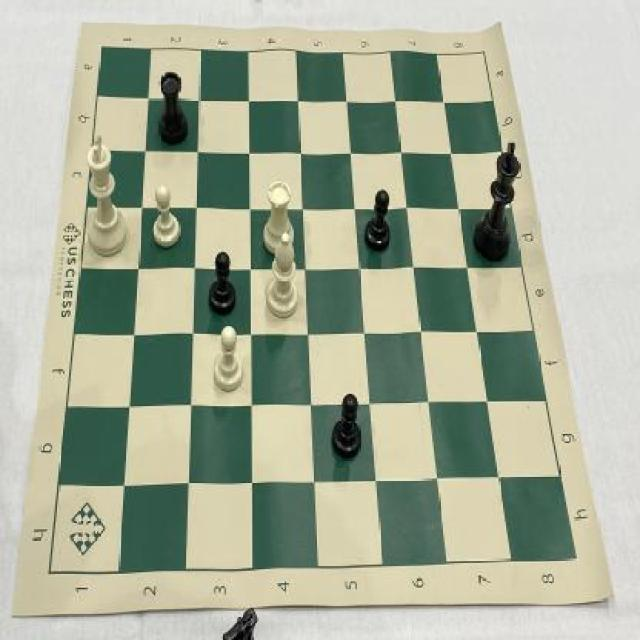black-bishop: (472, 138, 525, 264)
black-knight: (328, 388, 366, 468), (204, 248, 238, 320), (363, 182, 391, 258)
black-queen: (152, 68, 192, 150)
black-rook: (260, 226, 302, 326)
white-bishop: (81, 126, 134, 265)
white-knight: (206, 323, 249, 397), (149, 177, 185, 251)
white-queen: (260, 174, 298, 261)
